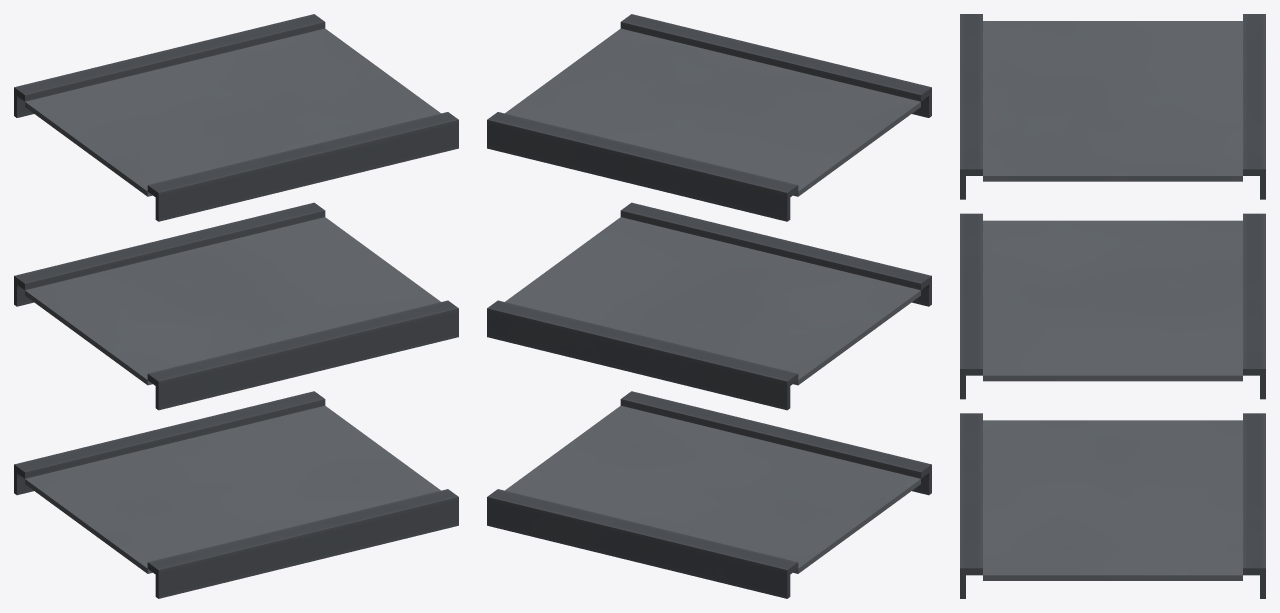
File: core_lower.obj
3 renders of one model, left to right at view 1: azimuth 30°, elevation 25°; view 2: azimuth 150°, elevation 25°; view 3: azimuth 270°, elevation 25°, orthographic. The views are drawn at different scales.
Parts seen in each view (by area): view 1: core_lower__core_lower_deck, core_lower__core_lower_beams; view 2: core_lower__core_lower_deck, core_lower__core_lower_beams; view 3: core_lower__core_lower_deck, core_lower__core_lower_beams.
Part boxes in pixels (left/top/right/bottom): core_lower__core_lower_deck: left=25, top=28, right=440, bottom=573; core_lower__core_lower_beams: left=14, top=14, right=458, bottom=598; core_lower__core_lower_deck: left=505, top=28, right=920, bottom=573; core_lower__core_lower_beams: left=487, top=14, right=931, bottom=598; core_lower__core_lower_deck: left=983, top=21, right=1242, bottom=580; core_lower__core_lower_beams: left=960, top=14, right=1265, bottom=598.
Size of the model in its own units: 0.75 by 0.9688 by 0.625.
